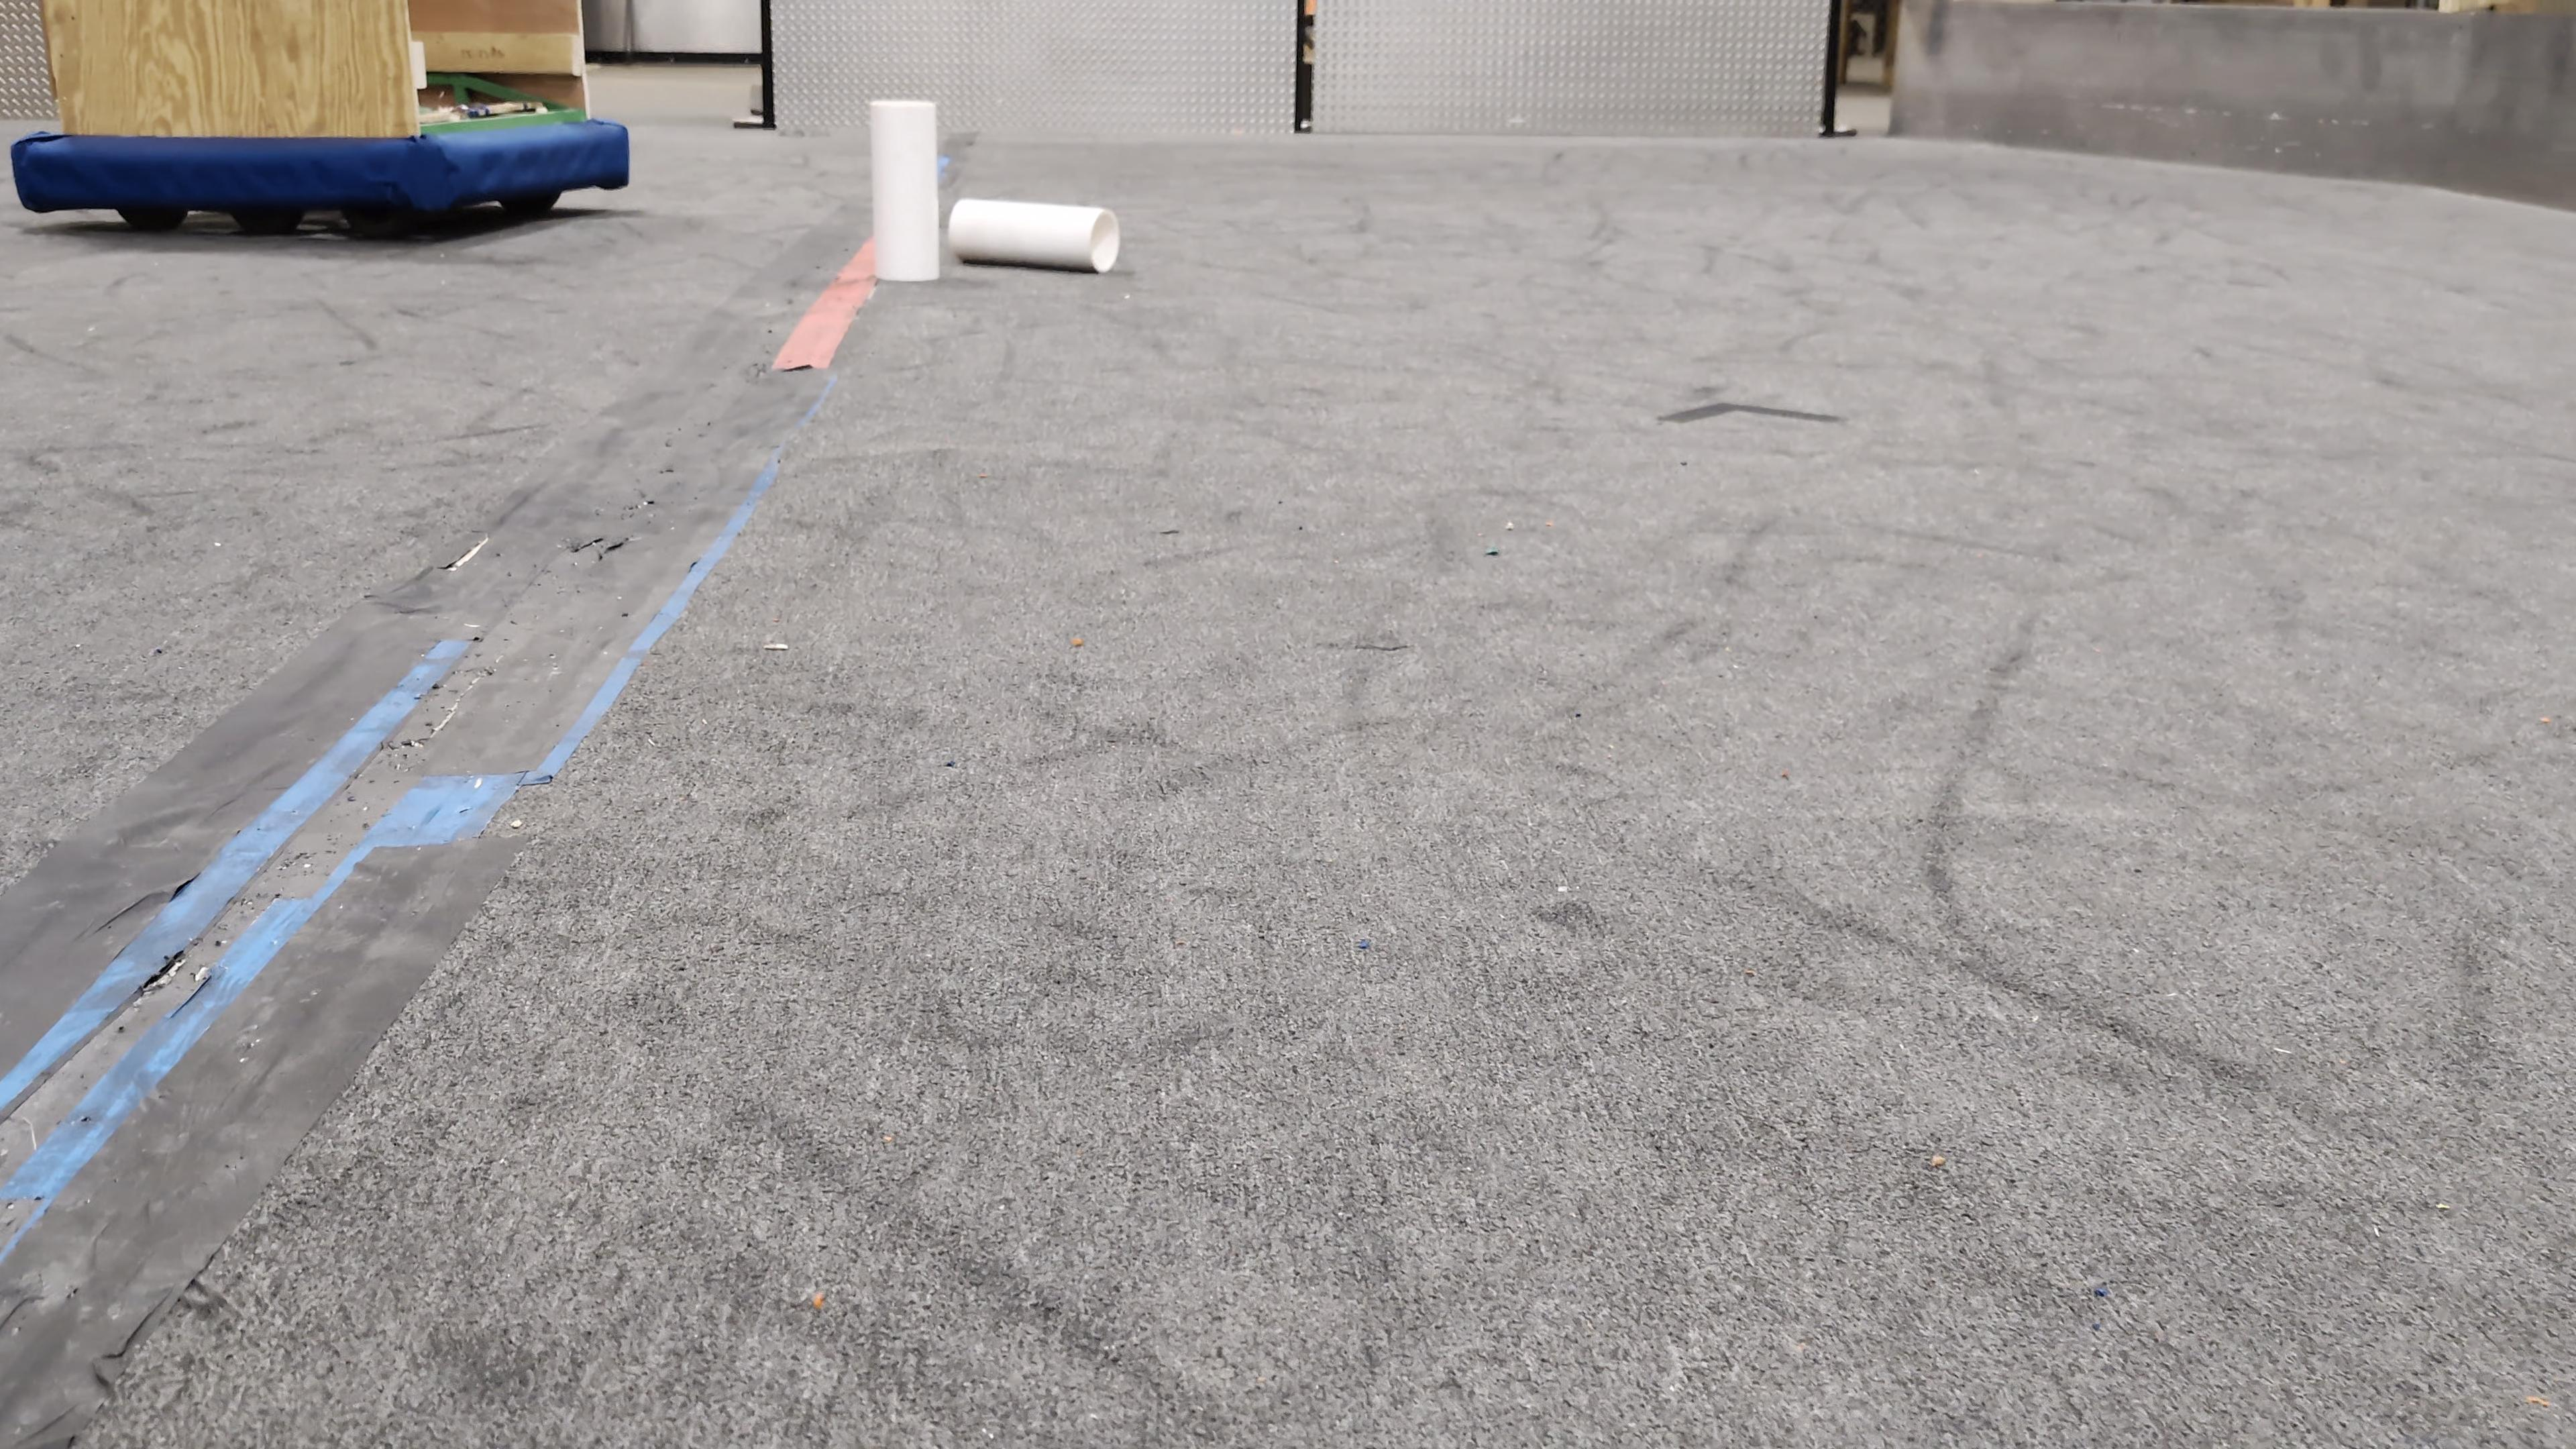coral: (870, 99, 939, 281), (950, 198, 1118, 272)
